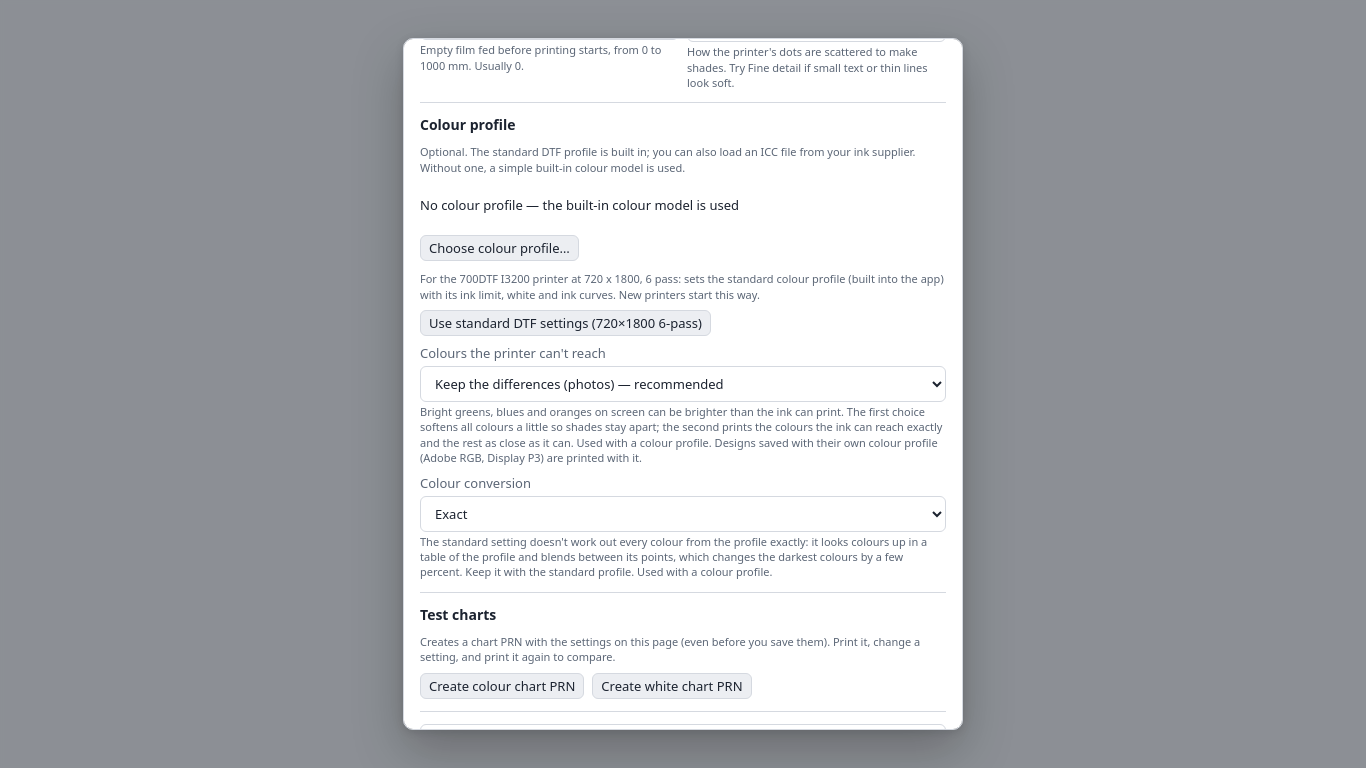
Test: Settings › Ink & colour › saves the choice for colours the printer cannot reach
(page scrolled)
Select "Keep exact colours (logos, brand colours)" in the dropdown labelled "Colours the printer can't reach" at {"x": 683, "y": 384}, box top-left (420, 366), bottom-right (946, 402)
(page scrolled)
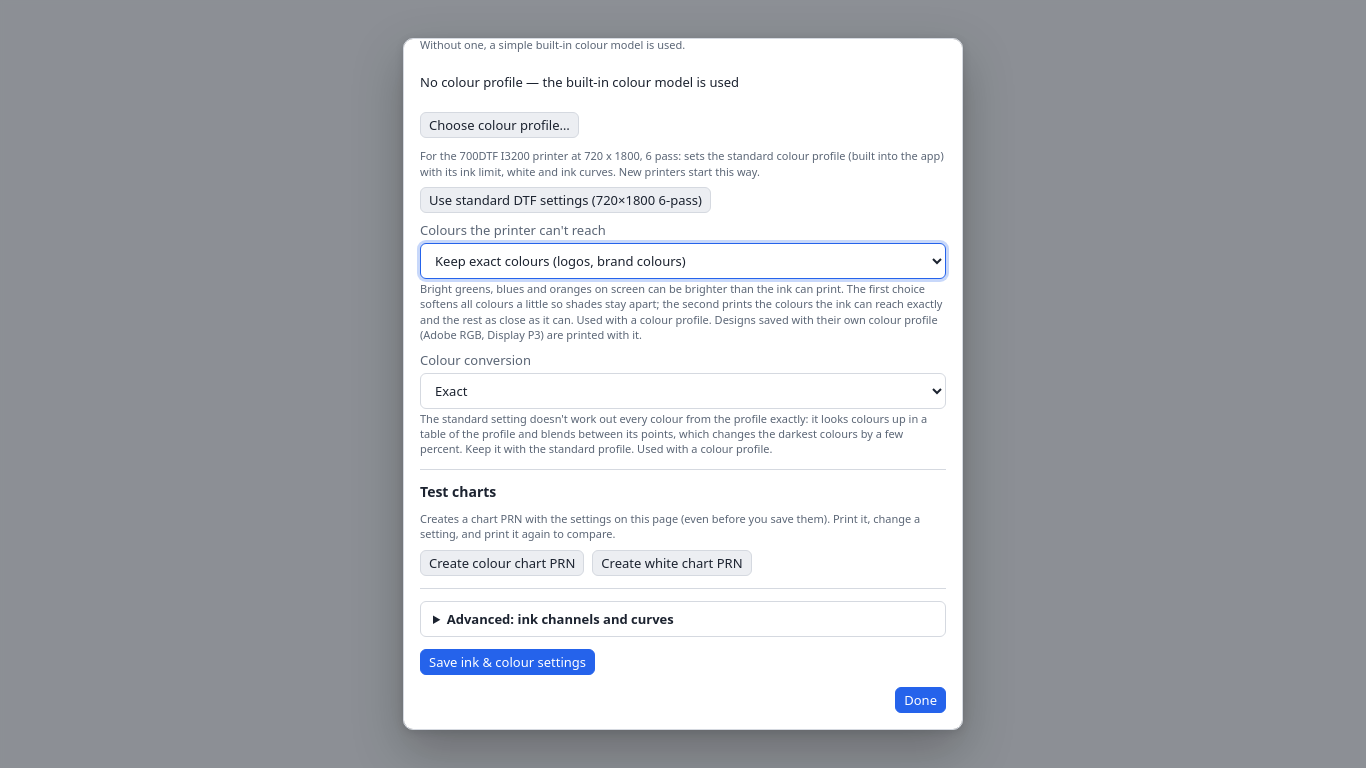
Click the button "Save ink & colour settings" at {"x": 508, "y": 662}, box top-left (420, 648), bottom-right (595, 674)
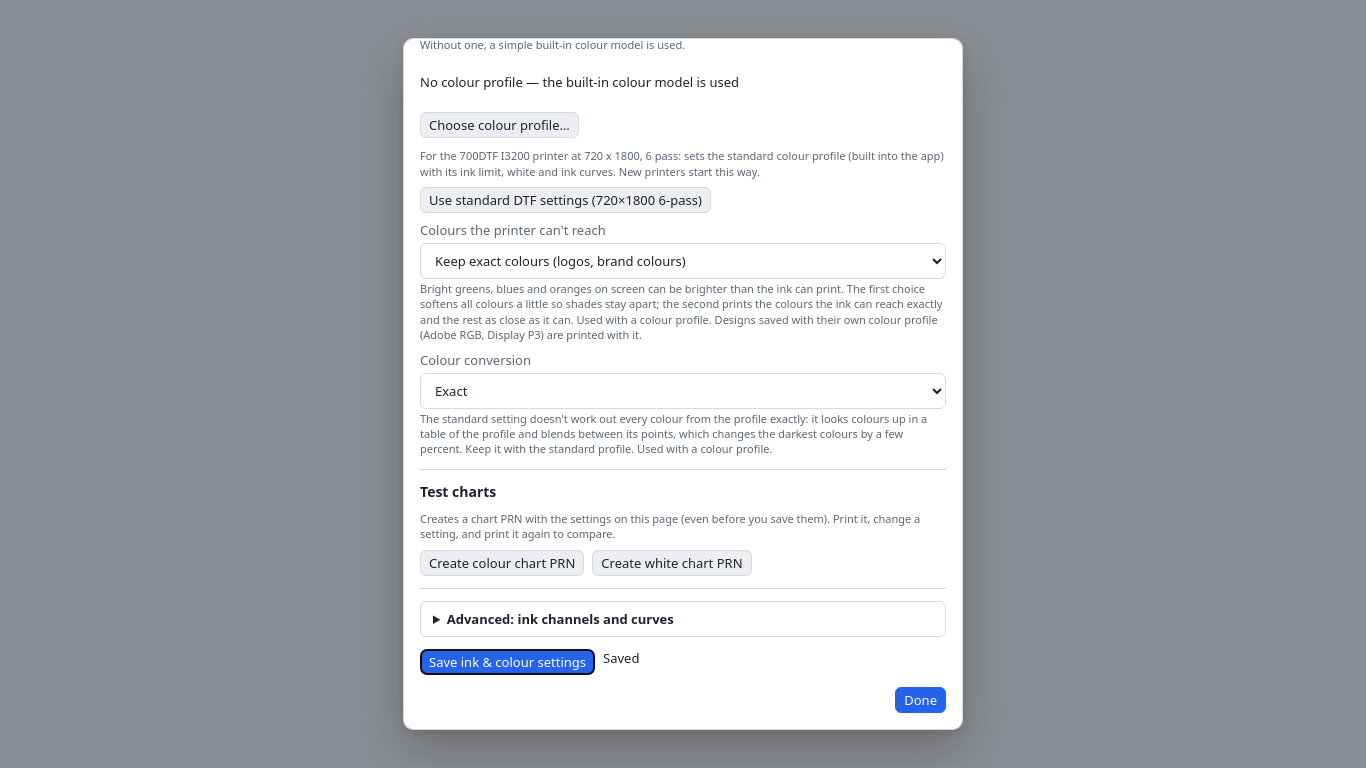
Now the message "Saved" is shown, box top-left (603, 648), bottom-right (639, 674)
